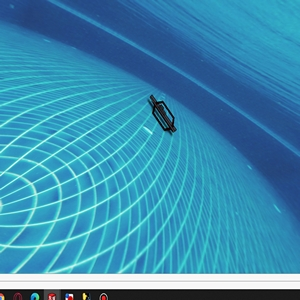submarine: (147, 97, 176, 134)
